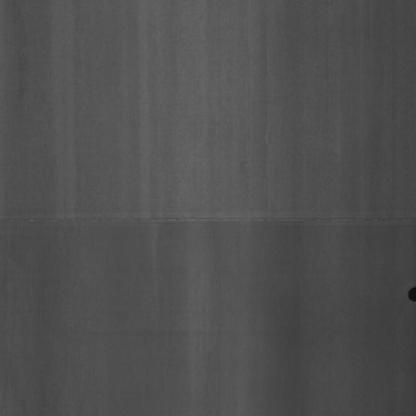punching_hole: (406, 283, 416, 307)
welding_line: (1, 206, 414, 232)
